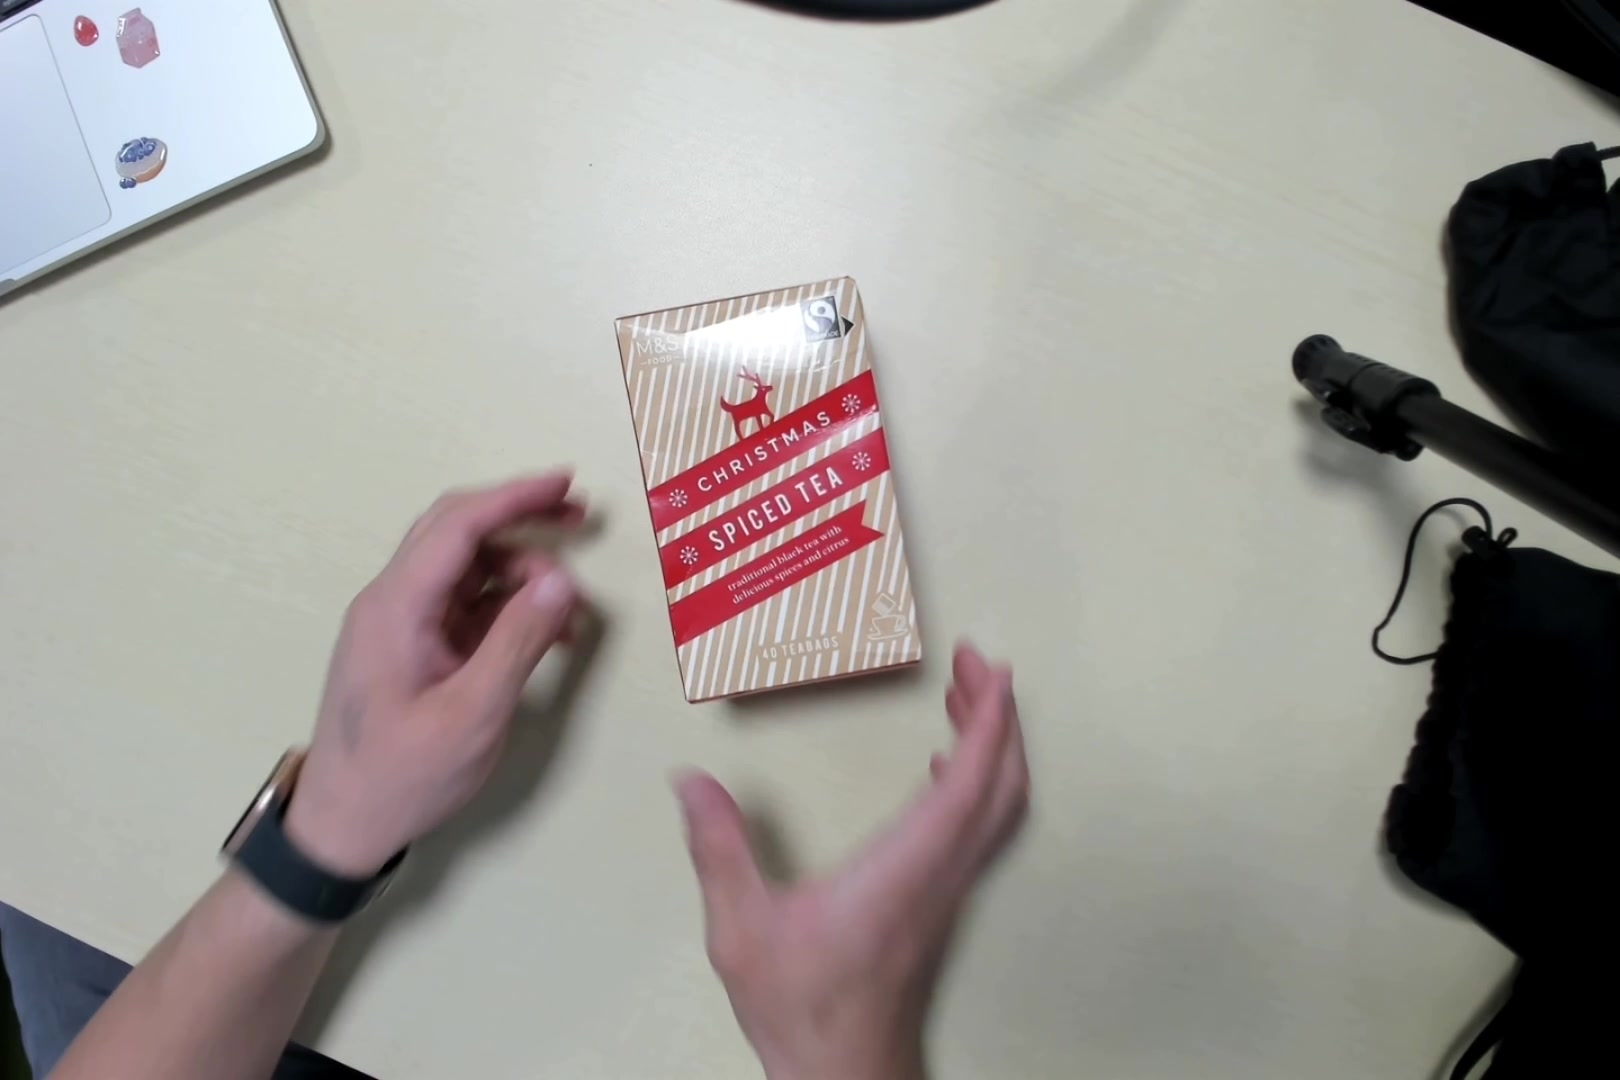Tea(PowderLeaves)_100-199g_Halal_NonHealthy: (614, 268, 932, 711)
